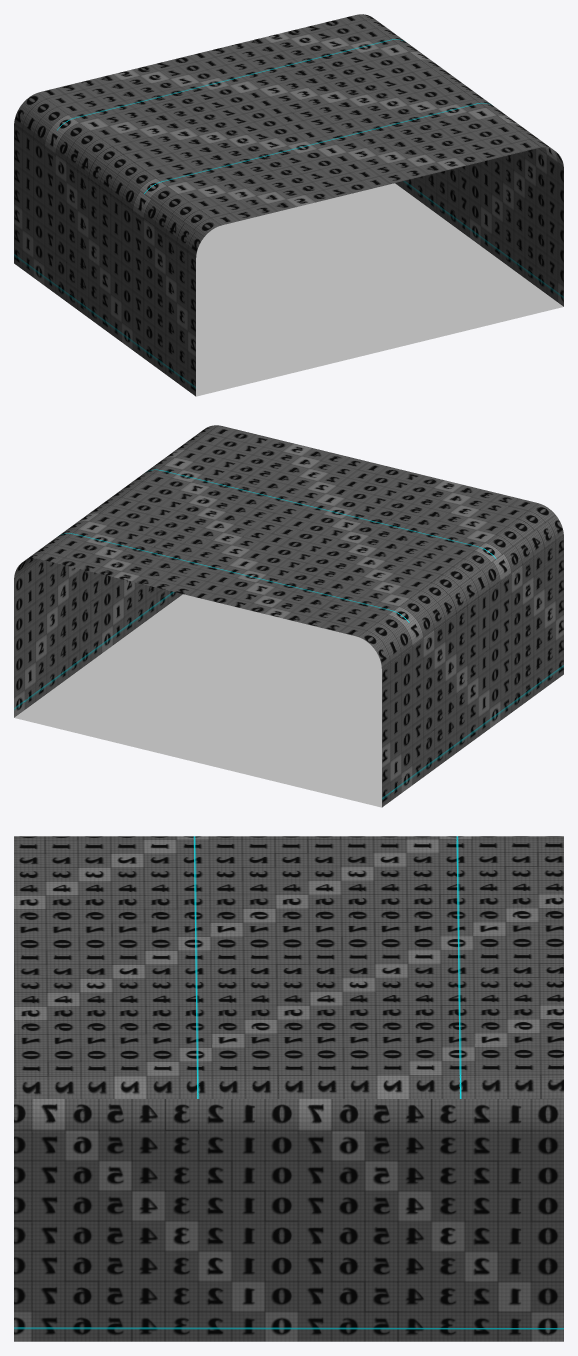
File: WallFrameRound700x300x600cm.FBX
3 renders of one model, top to bottom at view 1: azimuth 30°, elevation 25°; view 2: azimuth 150°, elevation 25°; view 3: azimuth 270°, elevation 25°, orthographic. The views are drawn at different scales.
Parts seen in each view (by area): view 1: WallFrameRound700x300x600cm; view 2: WallFrameRound700x300x600cm; view 3: WallFrameRound700x300x600cm.
Part boxes in pixels (<box>): WallFrameRound700x300x600cm: <box>14,14,563,396</box>; WallFrameRound700x300x600cm: <box>14,425,563,807</box>; WallFrameRound700x300x600cm: <box>14,836,563,1341</box>.
Bounding box in the file's own units: 700 × 300 × 600.
